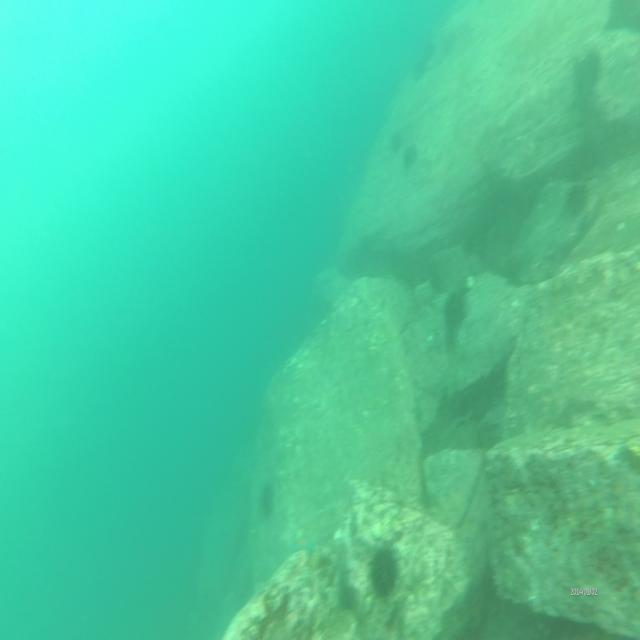echinus: (370, 540, 398, 600), (579, 46, 604, 89), (446, 287, 469, 326), (567, 180, 589, 216), (260, 478, 276, 514), (403, 142, 418, 170), (391, 127, 405, 150)
